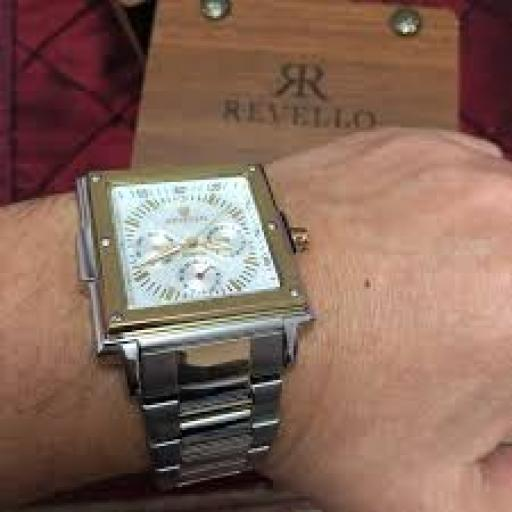KolSaati: (60, 135, 325, 482)
